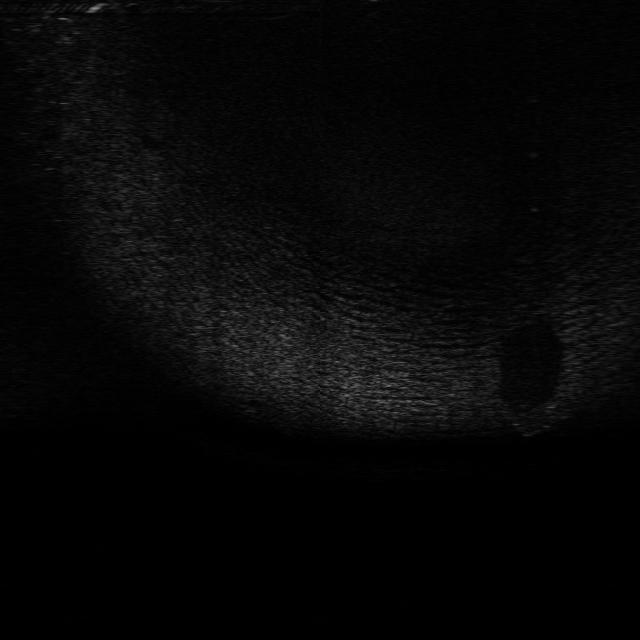cube: (499, 399, 572, 437)
